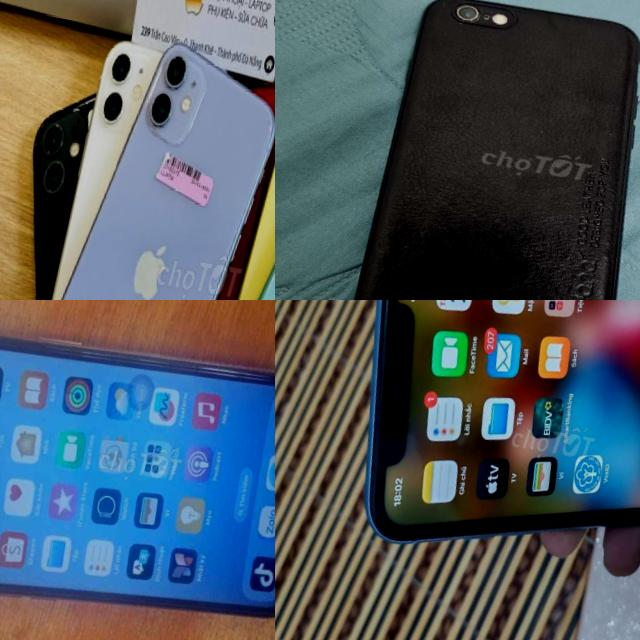gen_14: (0, 15, 275, 300)
gen_6: (334, 0, 640, 300)
gen_x_xs: (0, 305, 275, 640), (364, 300, 640, 542)
